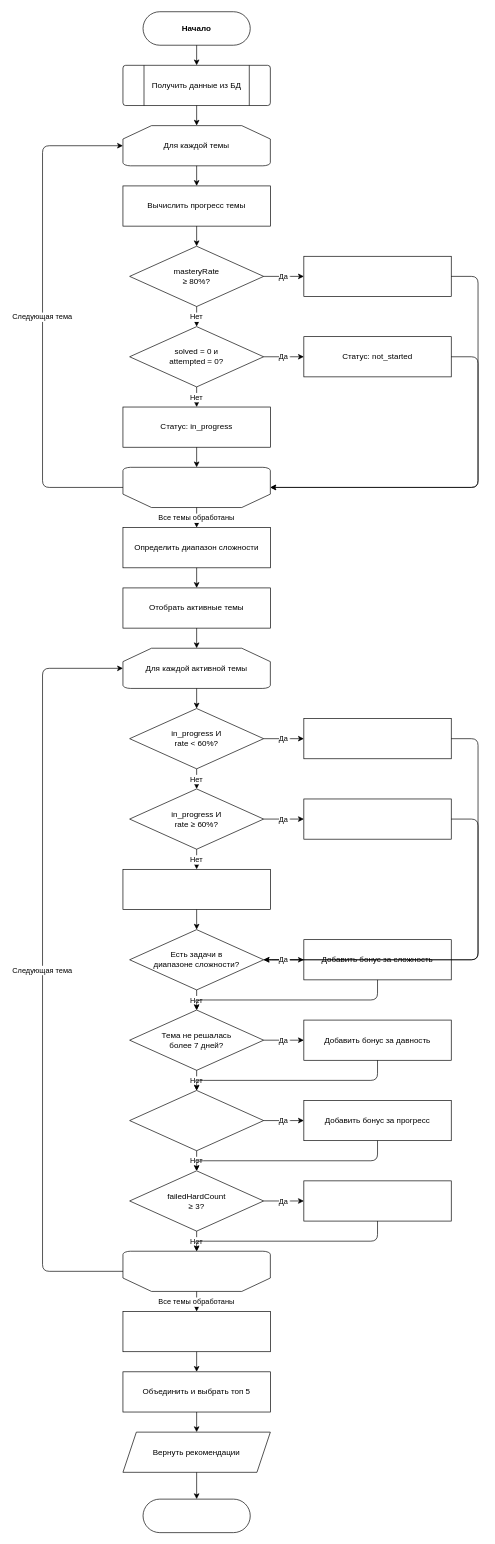
Image size: 495x1544. Some labels were removed from this diagram. Here are the shapes that lost their labels. From the top down, the centre of each, then its label:
point 377,276: Статус: mastered
point 196,487: Конец цикла по темам
point 377,738: Тип: improve
point 377,818: Тип: continue
point 196,889: Тип: start
point 196,1120: masteryRate = 70–80%?
point 377,1200: Начислить штраф
point 196,1271: Конец цикла активных тем
point 196,1331: Добавить освоенные темы для повторения
point 196,1515: Конец
